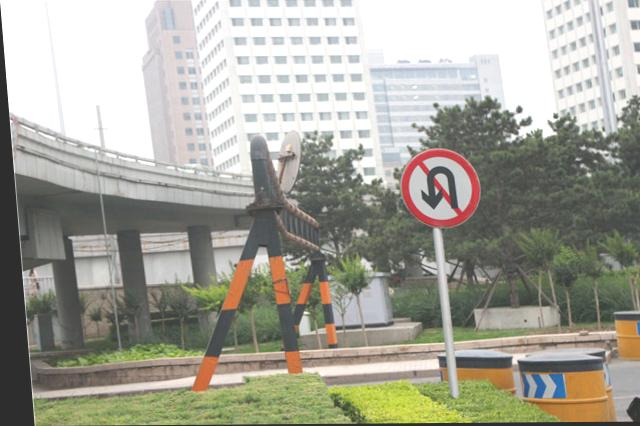not_u_turn_left: (394, 148, 481, 229)
